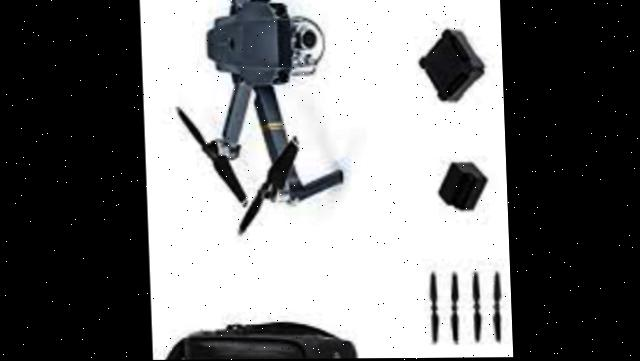drone: (175, 0, 362, 231)
